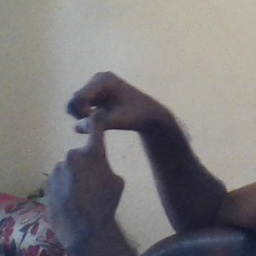Q: (34, 67, 148, 224)
